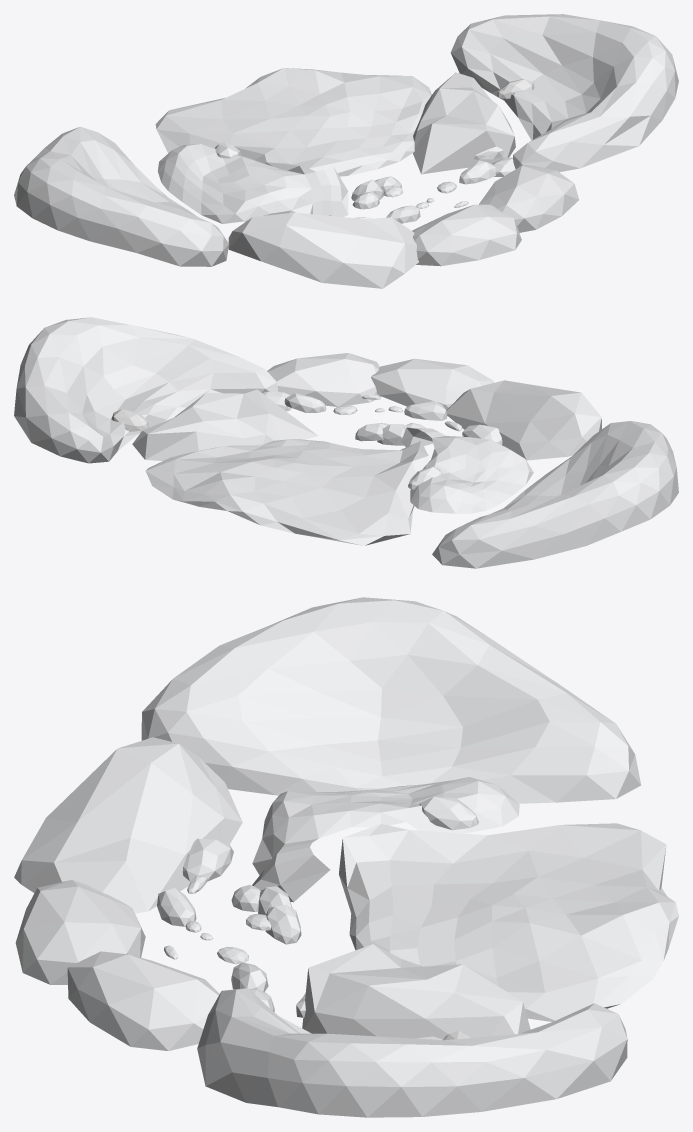
File: Tundra_snow.fbx
3 views of the same model, one above another, from view 1: azimuth 30°, elevation 25°; view 2: azimuth 150°, elevation 25°; view 3: azimuth 270°, elevation 25° (orthographic). The views are drawn at different scales.
Visible parts, largest first — view 1: Icosphere.017, Icosphere.015, Icosphere.016, Icosphere.013, Icosphere, Icosphere.014, Icosphere.011, Icosphere.010, Icosphere.002, Icosphere.007, Icosphere.001, Icosphere.018; view 2: Icosphere.017, Icosphere.015, Icosphere.016, Icosphere.013, Icosphere, Icosphere.014, Icosphere.010, Icosphere.011, Icosphere.007, Icosphere.002, Icosphere.018, Icosphere.005 (+3 smaller); view 3: Icosphere.016, Icosphere.015, Icosphere.017, Icosphere.013, Icosphere.014, Icosphere, Icosphere.010, Icosphere.011, Icosphere.005, Icosphere.019, Icosphere.007, Icosphere.002 (+2 smaller).
Part boxes in pixels (x1=…): Icosphere.017: x1=450, y1=14, x2=678, y2=172; Icosphere.015: x1=155, y1=68, x2=431, y2=177; Icosphere.016: x1=14, y1=126, x2=228, y2=266; Icosphere.013: x1=228, y1=212, x2=418, y2=288; Icosphere: x1=157, y1=144, x2=348, y2=223; Icosphere.014: x1=413, y1=72, x2=515, y2=174; Icosphere.011: x1=412, y1=204, x2=521, y2=266; Icosphere.010: x1=479, y1=164, x2=579, y2=232; Icosphere.002: x1=437, y1=160, x2=496, y2=193; Icosphere.007: x1=386, y1=198, x2=434, y2=223; Icosphere.001: x1=352, y1=185, x2=403, y2=209; Icosphere.018: x1=497, y1=79, x2=534, y2=98; Icosphere.017: x1=14, y1=317, x2=278, y2=463; Icosphere.015: x1=145, y1=439, x2=429, y2=545; Icosphere.016: x1=432, y1=421, x2=678, y2=568; Icosphere.013: x1=446, y1=380, x2=601, y2=460; Icosphere: x1=401, y1=427, x2=533, y2=513; Icosphere.014: x1=132, y1=389, x2=317, y2=460; Icosphere.010: x1=267, y1=353, x2=381, y2=406; Icosphere.011: x1=371, y1=358, x2=493, y2=409; Icosphere.007: x1=375, y1=401, x2=447, y2=420; Icosphere.002: x1=284, y1=393, x2=357, y2=414; Icosphere.018: x1=111, y1=409, x2=148, y2=431; Icosphere.005: x1=462, y1=424, x2=502, y2=444; Icosphere.016: x1=141, y1=597, x2=641, y2=803; Icosphere.015: x1=339, y1=823, x2=678, y2=1021; Icosphere.017: x1=197, y1=988, x2=627, y2=1117; Icosphere.013: x1=14, y1=737, x2=242, y2=913; Icosphere.014: x1=302, y1=944, x2=530, y2=1039; Icosphere: x1=252, y1=777, x2=519, y2=902; Icosphere.010: x1=67, y1=951, x2=219, y2=1050; Icosphere.011: x1=15, y1=880, x2=145, y2=984; Icosphere.005: x1=182, y1=838, x2=233, y2=881; Icosphere.019: x1=419, y1=797, x2=478, y2=830; Icosphere.007: x1=157, y1=888, x2=213, y2=940; Icosphere.002: x1=217, y1=947, x2=268, y2=991.
Size of the model in its own units: 6531 by 792 by 3871.
